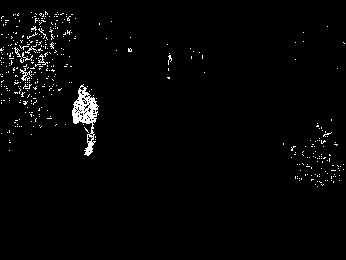person: (73, 83, 101, 158)
